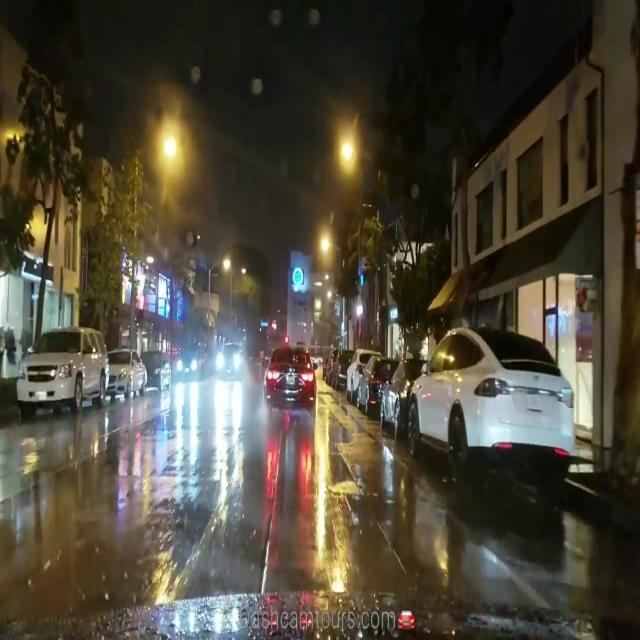Car: (408, 328, 572, 495), (15, 326, 106, 408), (263, 345, 316, 415), (379, 354, 406, 441), (104, 345, 145, 397), (358, 350, 382, 415), (142, 346, 172, 393), (217, 339, 246, 376)
